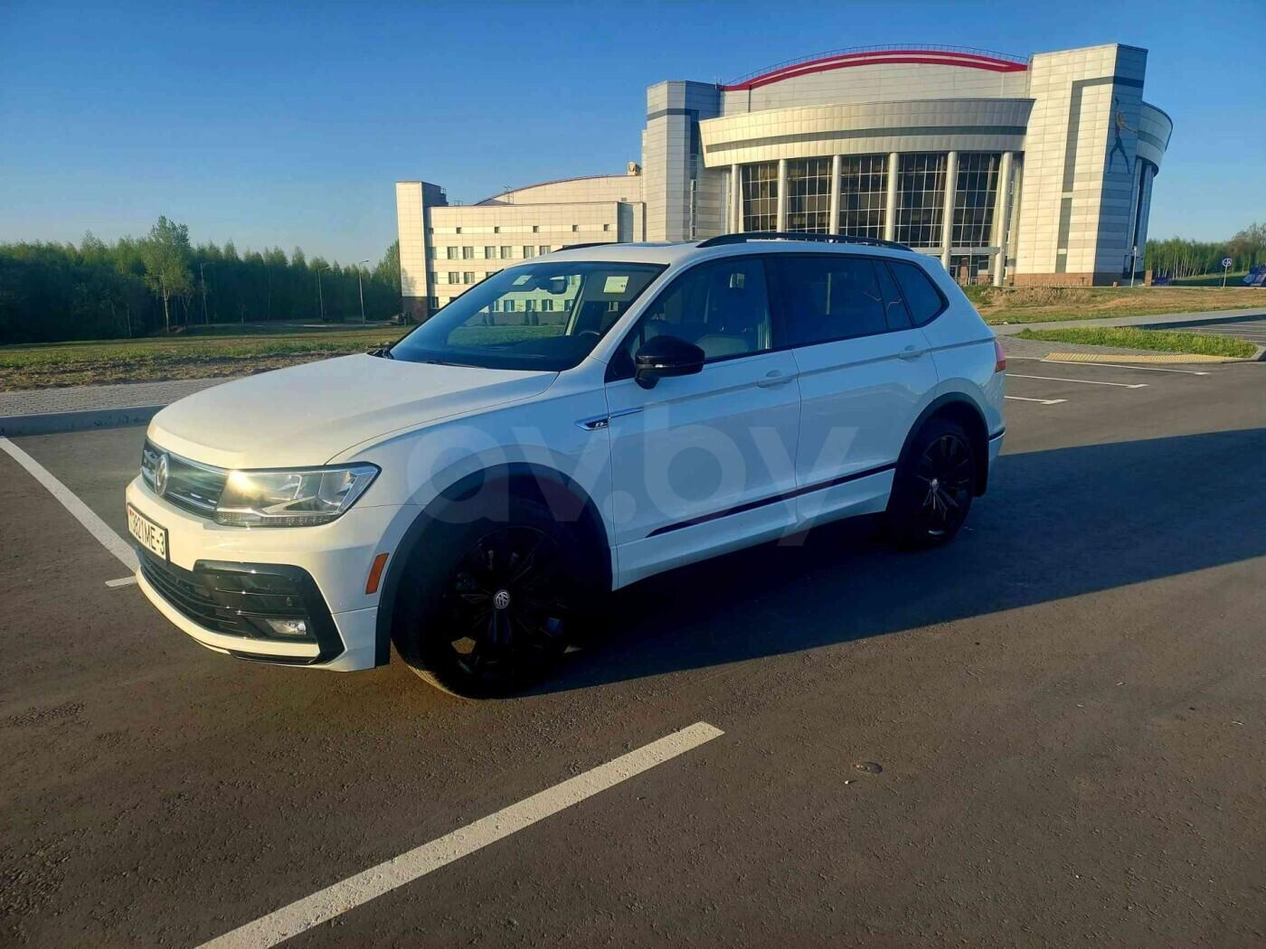Tiguan_2016-2021: (121, 238, 1009, 697)
